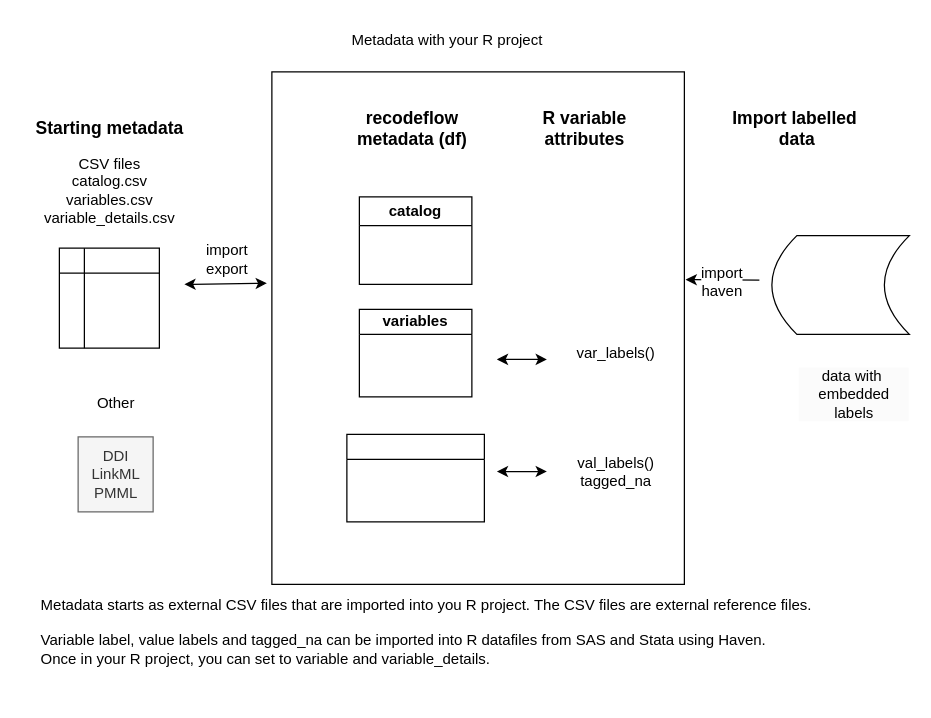
Some shapes in this 931 by 718 pixel diagram are drawn without their labels. The box of each missing label's shape, as (x1, y1, x2, y2) in pixels:
SAS Stata: (771, 234, 909, 334)
variable_details: (346, 433, 484, 522)
